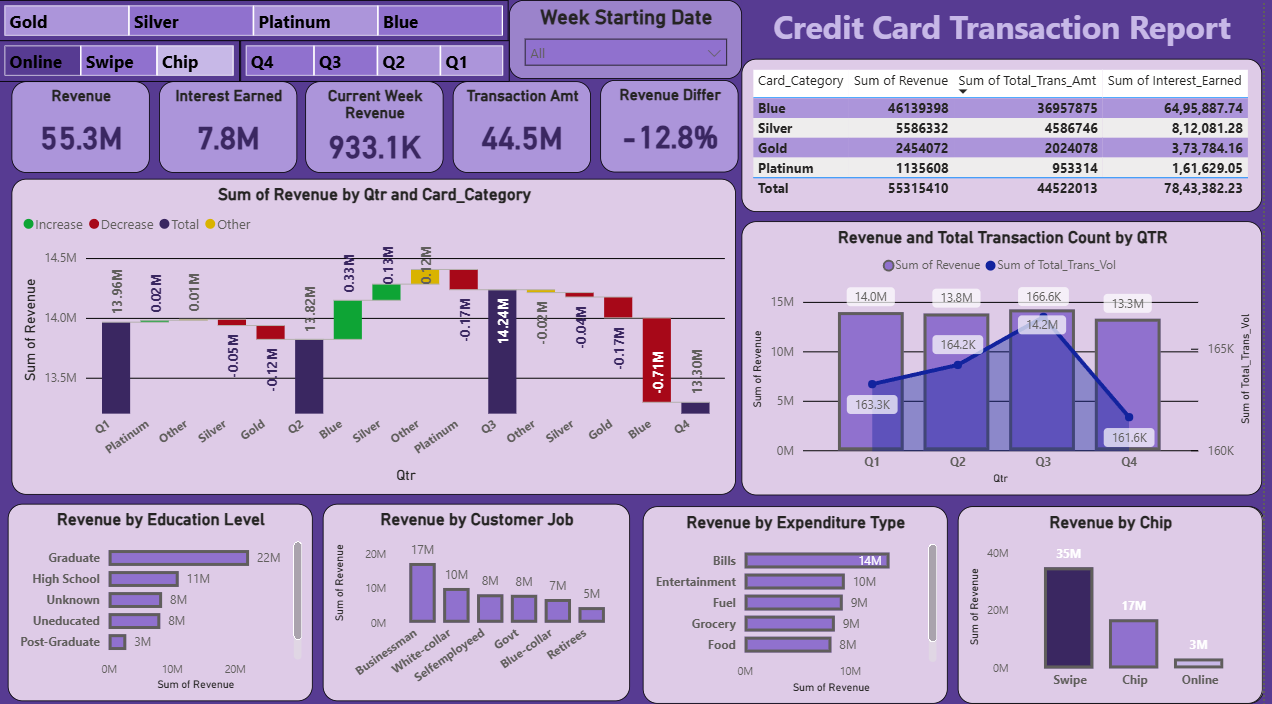

What the dashboard file says about the page in this screenshot:
{"tool":"powerbi","page":{"name":"CC Transaction","canvas":[1280,720],"ordinal":1},"visuals":[{"type":"textbox","box":[752.5,0,527.5,60],"z":0},{"type":"lineClusteredColumnComboChart","title":"Revenue and Total Transaction Count by QTR","fields":{"Category":["credit_card.Qtr"],"Y":["Sum(credit_card.Revenue)"],"Y2":["Sum(credit_card.Total_Trans_Vol)"]},"box":[752.5,223.8,527.5,277.5],"z":1000},{"type":"barChart","title":"Revenue by Expenditure Type","fields":{"Category":["credit_card.Exp Type"],"Y":["Sum(credit_card.Revenue)"]},"box":[651.8,512.5,308.5,200.3],"z":2000},{"type":"barChart","title":"Revenue by Education Level","fields":{"Category":["customer.Education_Level"],"Y":["Sum(credit_card.Revenue)"]},"box":[8.7,510,308.5,200.3],"z":3000},{"type":"columnChart","title":"Revenue by Customer Job","fields":{"Category":["customer.Customer_Job"],"Y":["Sum(credit_card.Revenue)"]},"box":[328.4,510,311,200.3],"z":4000},{"type":"columnChart","title":"Revenue by Card Caragory","fields":{"Category":["credit_card.Card_Category"],"Y":["Sum(credit_card.Revenue)"]},"box":[971.5,512.5,308.5,200.3],"z":5000},{"type":"columnChart","title":"Revenue by Chip","fields":{"Category":["credit_card.Use Chip"],"Y":["Sum(credit_card.Revenue)"]},"box":[971.2,512.5,308.8,200],"z":6000},{"type":"tableEx","fields":{"Values":["credit_card.Card_Category","Sum(credit_card.Revenue)","Sum(credit_card.Total_Trans_Amt)","Sum(credit_card.Interest_Earned)"]},"box":[752.5,60,527.5,155],"z":7000},{"type":"card","title":"Revenue","fields":{"Values":["Sum(credit_card.Revenue)"]},"box":[12.5,82.5,140,92.5],"z":8000},{"type":"card","title":"Transaction Amt","fields":{"Values":["Sum(credit_card.Total_Trans_Amt)"]},"box":[460,82.5,140,92.5],"z":9000},{"type":"card","title":"Interest Earned","fields":{"Values":["Sum(credit_card.Interest_Earned)"]},"box":[162.5,82.5,140,92.5],"z":10000},{"type":"card","title":"Revenue Differ","fields":{"Values":["credit_card.wow_revenue"]},"box":[608.8,81.2,140,93.8],"z":11000},{"type":"slicer","title":"Week Starting Date","fields":{"Values":["credit_card.Week_Start_Date"]},"box":[516.2,0,236.2,80],"z":12000},{"type":"treemap","fields":{"Group":["credit_card.Card_Category"],"Values":["Min(credit_card.Client_Num)"]},"box":[0,0,516.2,42.5],"z":13000},{"type":"waterfallChart","fields":{"Y":["Sum(credit_card.Revenue)"],"Category":["credit_card.Qtr"],"Breakdown":["credit_card.Card_Category"]},"box":[12.5,181.2,733.8,320],"z":14000},{"type":"treemap","fields":{"Values":["Min(credit_card.Client_Num)"],"Group":["credit_card.Use Chip"]},"box":[0,40,243.8,42.5],"z":15000},{"type":"treemap","fields":{"Group":["credit_card.Qtr"],"Values":["Min(credit_card.Client_Num)"]},"box":[243.8,40,272.5,42.5],"z":16000},{"type":"card","title":"Current Week Revenue","fields":{"Values":["credit_card.Current_Week_Revenue"]},"box":[310,82.5,140,92.5],"z":17000}]}

Visuals, with their boxes in screenshot pixels (x1, y1, x2, y2), scaled from the page's 1280x720 canvas onto the 1272x704 screenshot:
textbox: <region>748, 0, 1271, 59</region>
"Revenue and Total Transaction Count by QTR" lineClusteredColumnComboChart: <region>748, 219, 1271, 490</region>
"Revenue by Expenditure Type" barChart: <region>648, 501, 954, 697</region>
"Revenue by Education Level" barChart: <region>9, 499, 315, 695</region>
"Revenue by Customer Job" columnChart: <region>326, 499, 635, 695</region>
"Revenue by Card Caragory" columnChart: <region>965, 501, 1271, 697</region>
"Revenue by Chip" columnChart: <region>965, 501, 1271, 697</region>
tableEx - credit_card.Card_Category x Sum(credit_card.Revenue): <region>748, 59, 1271, 210</region>
"Revenue" card: <region>12, 81, 152, 171</region>
"Transaction Amt" card: <region>457, 81, 596, 171</region>
"Interest Earned" card: <region>161, 81, 301, 171</region>
"Revenue Differ" card: <region>605, 79, 744, 171</region>
"Week Starting Date" slicer: <region>513, 0, 748, 78</region>
treemap - credit_card.Card_Category x Min(credit_card.Client_Num): <region>0, 0, 513, 42</region>
waterfallChart - Sum(credit_card.Revenue) x credit_card.Qtr: <region>12, 177, 742, 490</region>
treemap - Min(credit_card.Client_Num) x credit_card.Use Chip: <region>0, 39, 242, 81</region>
treemap - credit_card.Qtr x Min(credit_card.Client_Num): <region>242, 39, 513, 81</region>
"Current Week Revenue" card: <region>308, 81, 447, 171</region>
